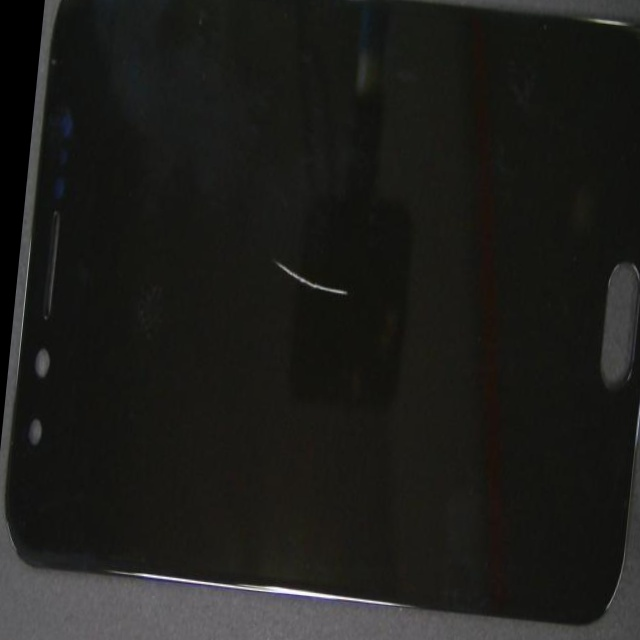scratch: (215, 131, 501, 459)
